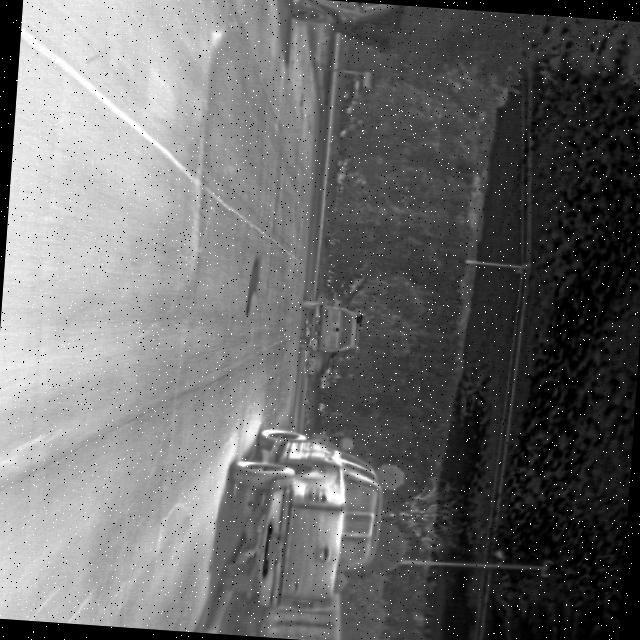Vehicle: (215, 421, 392, 618), (294, 296, 366, 358)
